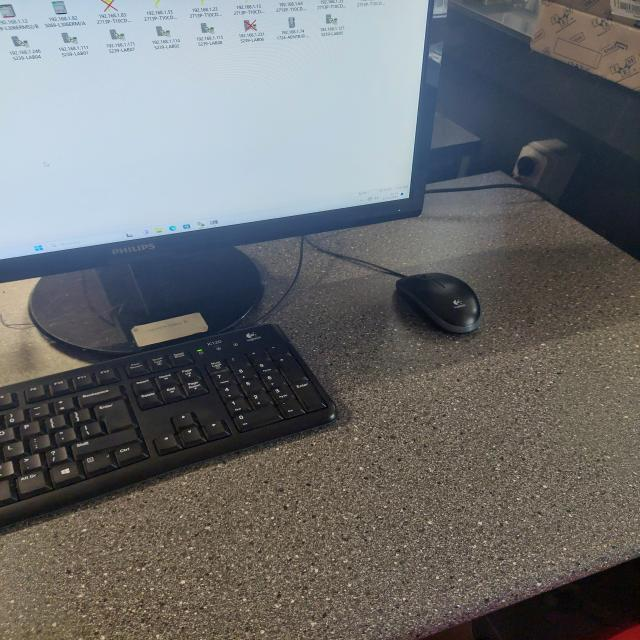mysz: (386, 255, 497, 344)
